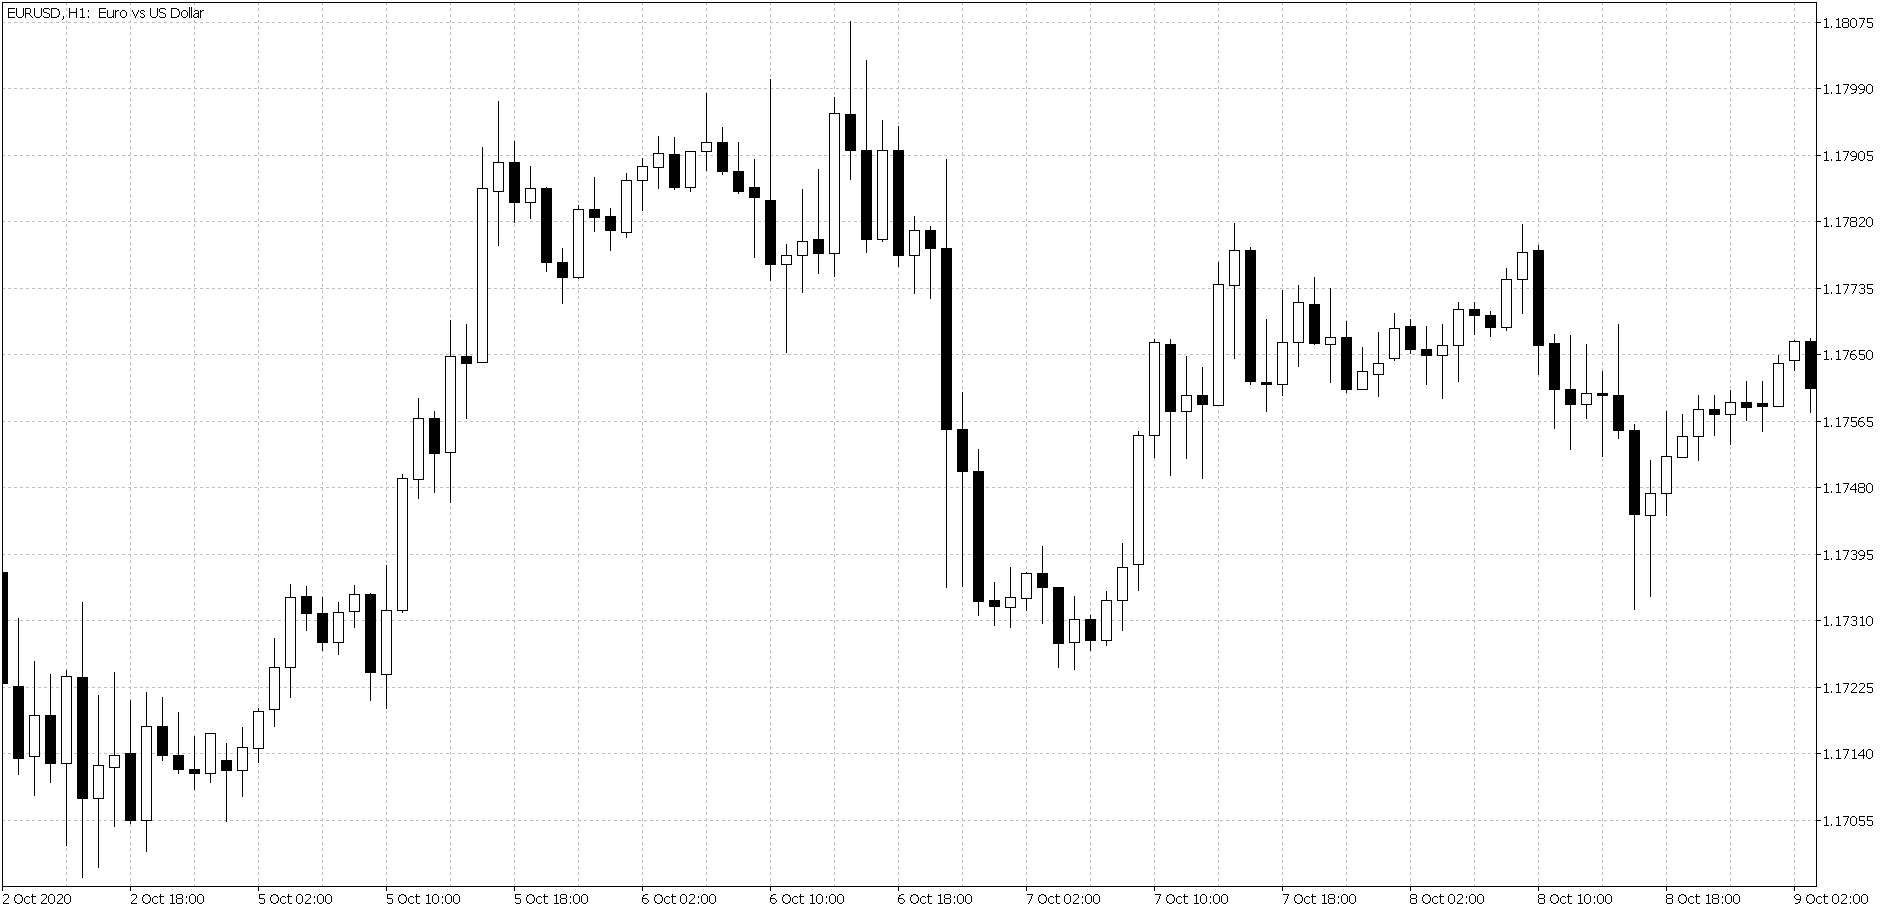3whitesoldiers: (251, 576, 298, 764)
hammer: (780, 243, 797, 361)
morningDojiStar: (1243, 231, 1290, 409)
